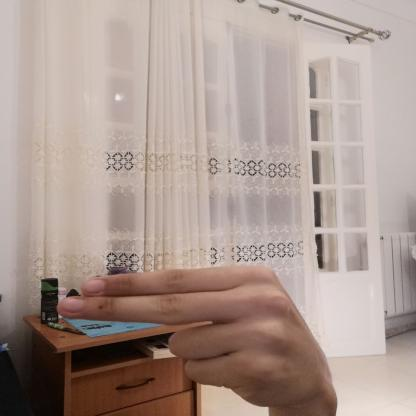AYN: (38, 250, 350, 414)
